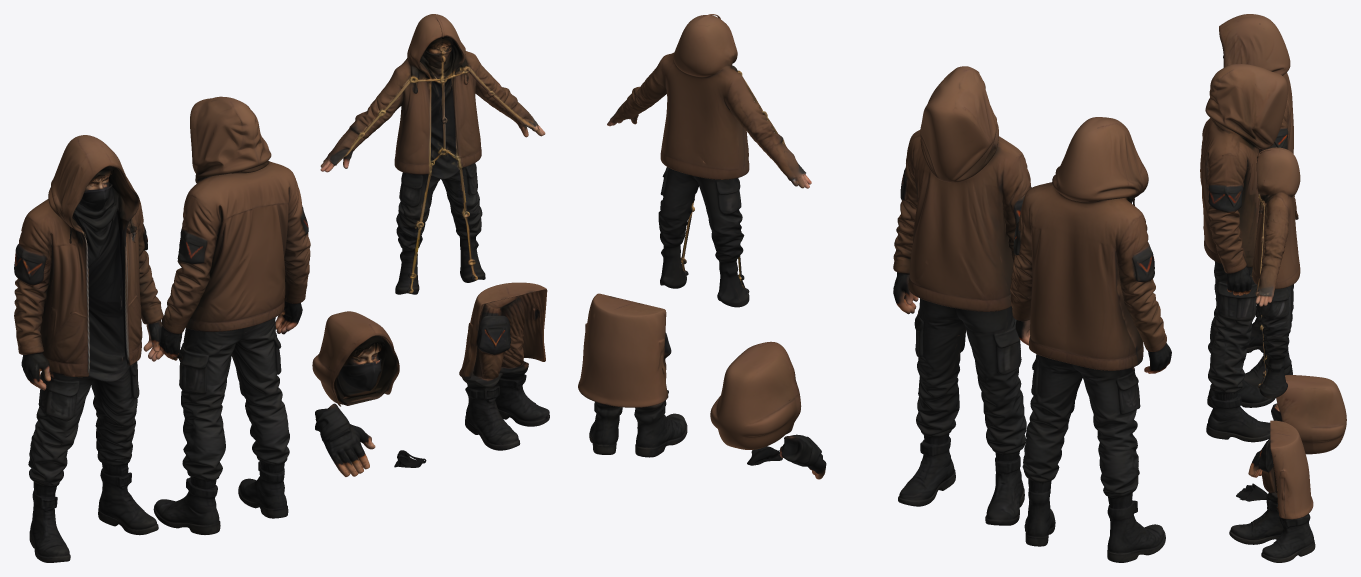
The picture shows the model from 3 angles, left to right: view 1: azimuth 30°, elevation 25°; view 2: azimuth 150°, elevation 25°; view 3: azimuth 270°, elevation 25°; orthographic projection. The views are drawn at different scales.
Visible parts, largest first — view 1: material; view 2: material; view 3: material.
Boxes of the visible parts, x1,y1,x2,y2 form: material: (14,14,549,562); material: (578,14,1171,562); material: (1200,14,1346,562).
Size of the model in its own units: 0.9714 by 0.735 by 0.2638.
Materials: 1 (1 with a texture image).
